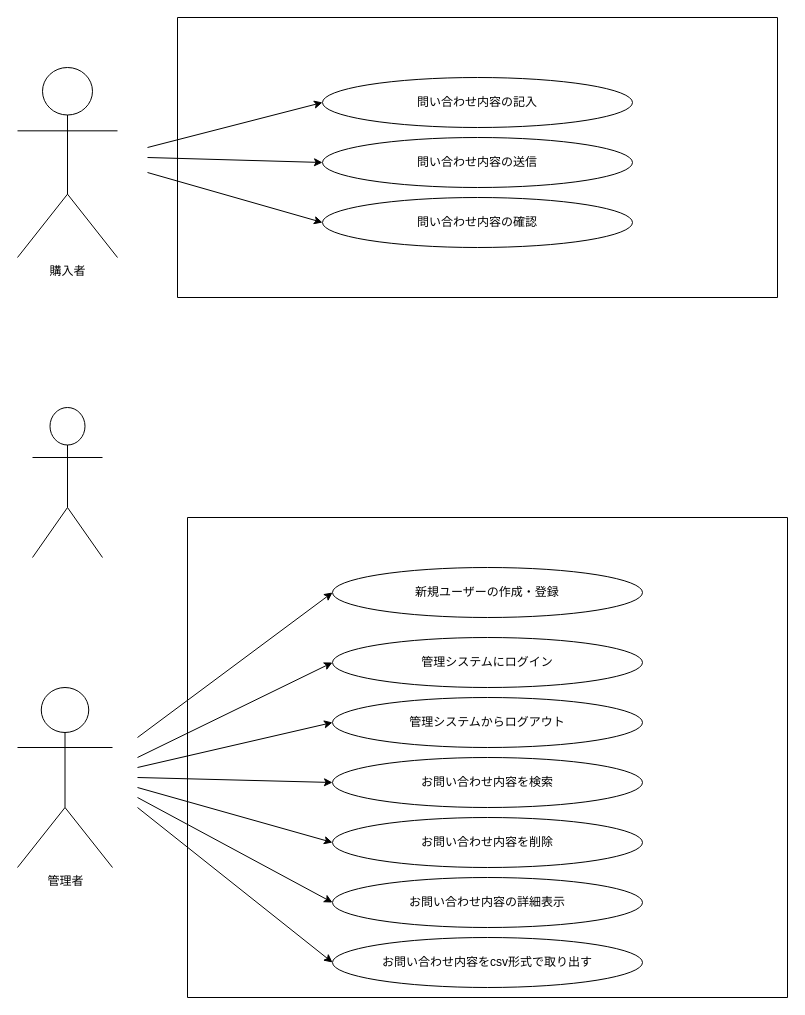
The diagram is 805 pixels wide and 1015 high, and some of its shapes have lost their labels. The shapes that lost their labels are listed below. From the top down, each one's box as (x1, y1, x2, y2) in pixels, then its label:
(176, 16, 778, 298): 問い合わせ送信システム
(32, 406, 102, 558): Actor
(186, 516, 788, 998): 問い合わせ管理システム
